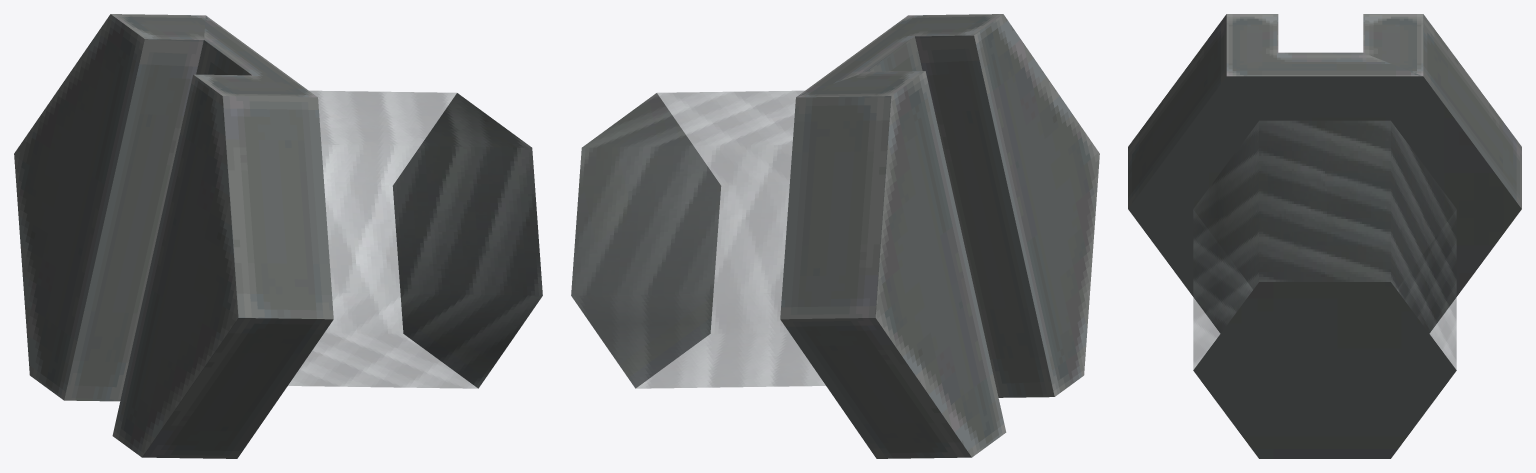
The model's file is bolt-1.glb.
3 renders of one model, left to right at view 1: azimuth 30°, elevation 25°; view 2: azimuth 150°, elevation 25°; view 3: azimuth 270°, elevation 25°, orthographic. The views are drawn at different scales.
Parts seen in each view (by area): view 1: Bolt; view 2: Bolt; view 3: Bolt.
Part boxes in pixels (box(x1,y1,x2,y2)): Bolt: box(14, 14, 542, 458); Bolt: box(571, 14, 1099, 458); Bolt: box(1128, 14, 1521, 458).
Size of the model in its own units: 0.5797 by 0.5057 by 0.551.
2 materials, 2 textured.
